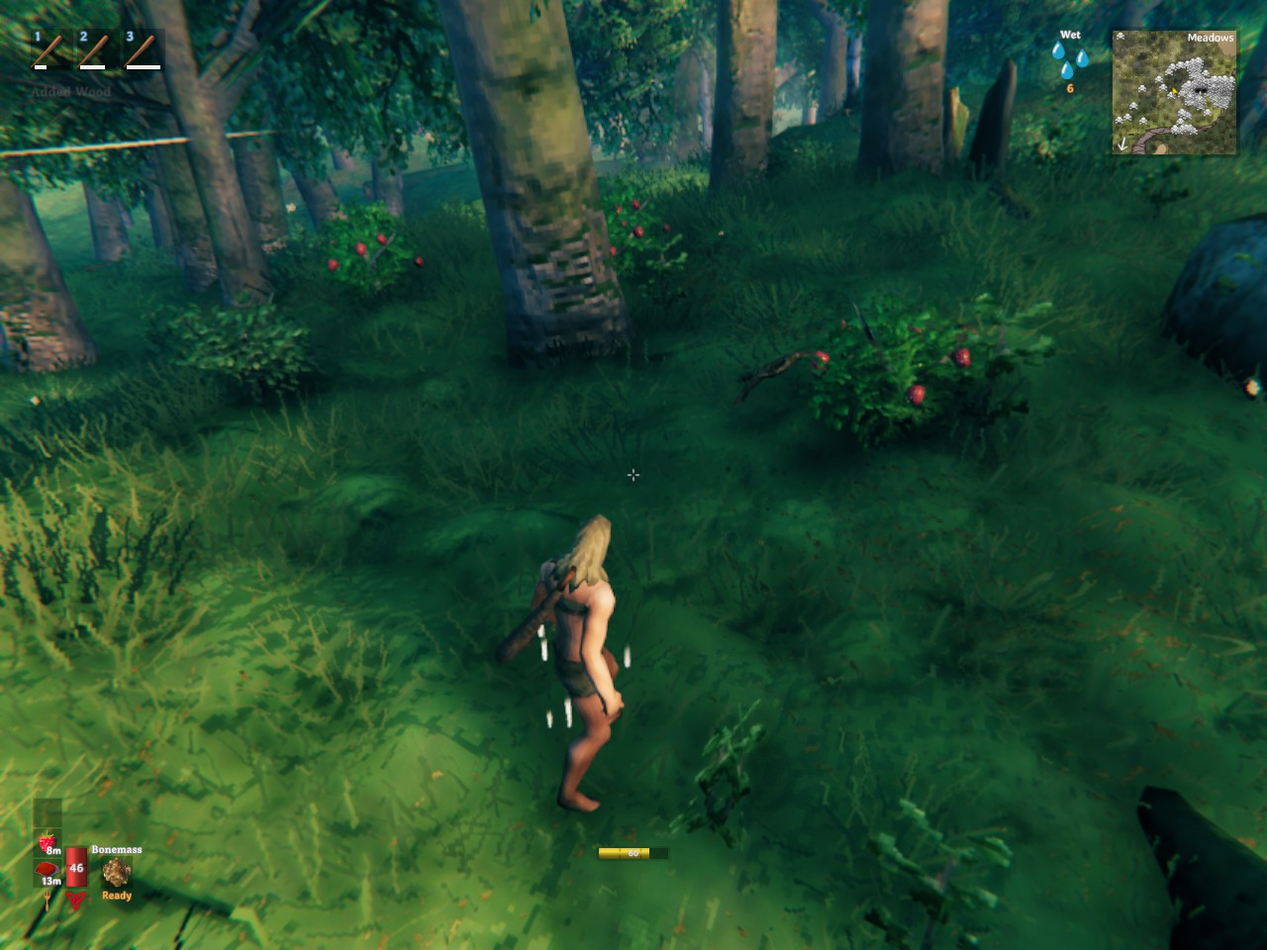Branch: (735, 350, 825, 404)
Food Indicator: (36, 797, 63, 891)
Health Bar: (63, 820, 90, 891)
Hotbar: (24, 21, 195, 80)
Raspberries: (810, 310, 1007, 442), (312, 225, 429, 291), (601, 195, 672, 275)
Stamina Bar: (595, 840, 672, 866)
Status Indicator: (1028, 24, 1109, 99)
